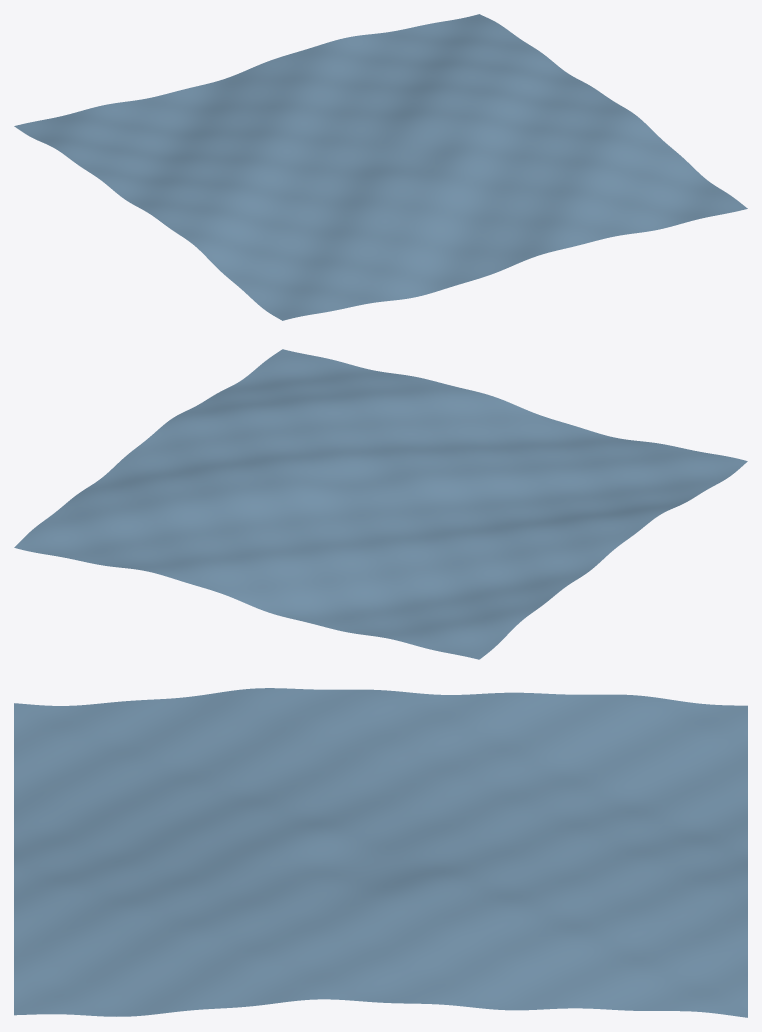
The model's file is seabed.glb.
3 views of the same model, one above another, from view 1: azimuth 30°, elevation 25°; view 2: azimuth 150°, elevation 25°; view 3: azimuth 270°, elevation 25° (orthographic). The views are drawn at different scales.
Parts seen in each view (by area): view 1: Abyssal_Seafloor_Mesh; view 2: Abyssal_Seafloor_Mesh; view 3: Abyssal_Seafloor_Mesh.
Part boxes in pixels (x1,y1,x2,y2): Abyssal_Seafloor_Mesh: [14, 14, 747, 320]; Abyssal_Seafloor_Mesh: [14, 349, 747, 659]; Abyssal_Seafloor_Mesh: [14, 688, 747, 1017].
Size of the model in its own units: 450 by 22.4 by 450.
